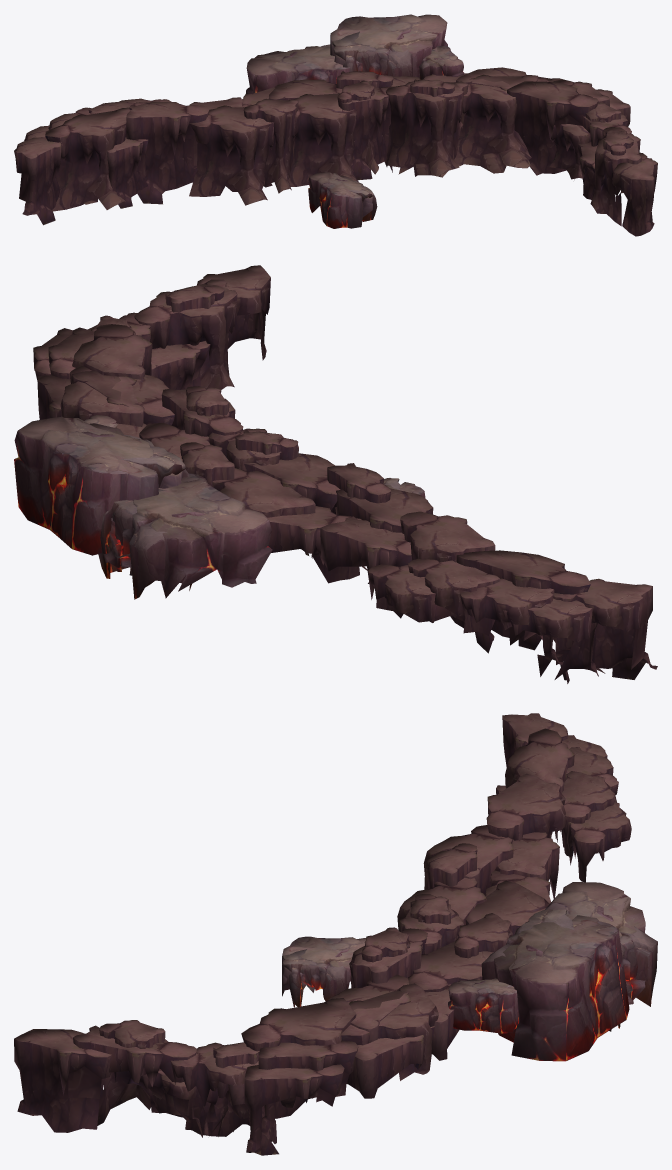
File: yanshi3_1.FBX
3 views of the same model, one above another, from view 1: azimuth 30°, elevation 25°; view 2: azimuth 150°, elevation 25°; view 3: azimuth 270°, elevation 25° (orthographic). The views are drawn at different scales.
Parts seen in each view (by area): view 1: yanshi3_1; view 2: yanshi3_1; view 3: yanshi3_1.
Boxes of the visible parts, <box> form: yanshi3_1: <box>14,14,657,236</box>; yanshi3_1: <box>14,265,657,683</box>; yanshi3_1: <box>14,713,657,1155</box>.
Size of the model in its own units: 9513 by 1765 by 7181.
